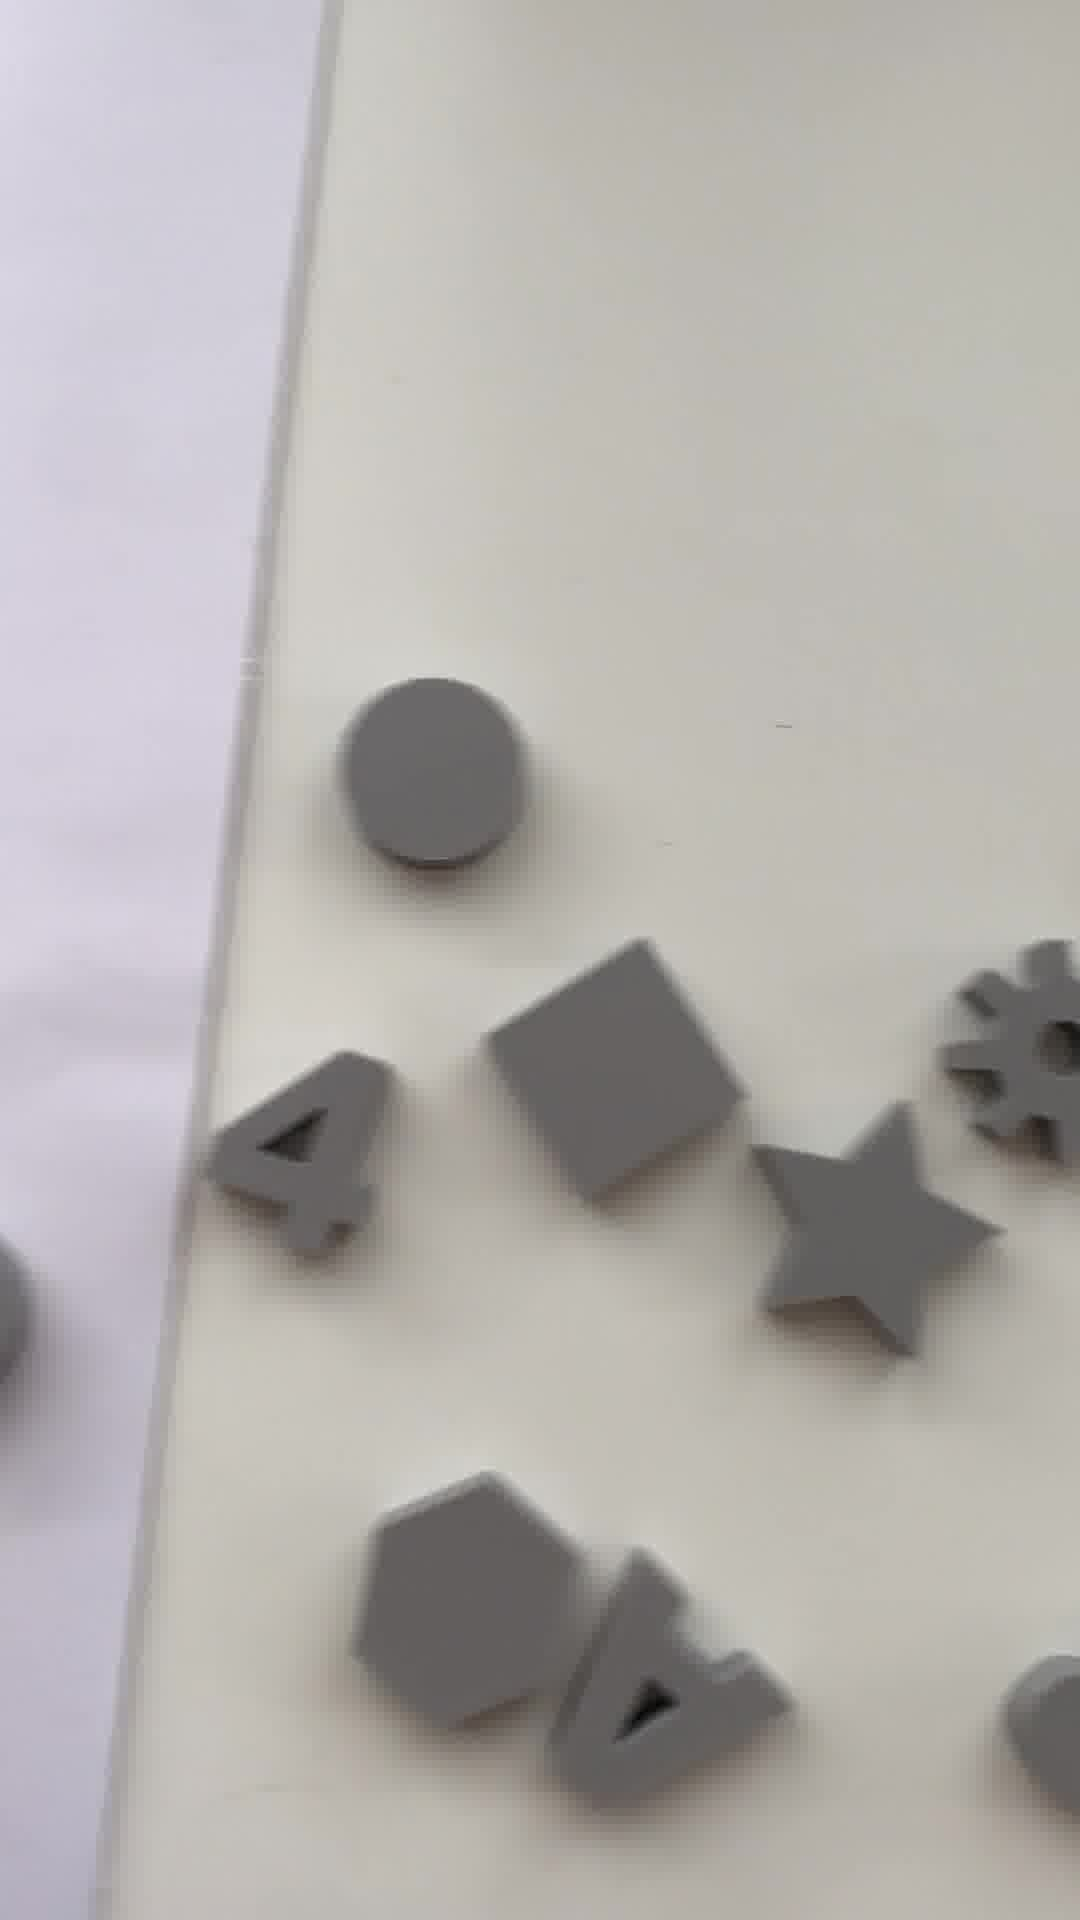Gray A-letter: (524, 1557, 802, 1818)
Gray circle: (331, 675, 547, 877)
Gray four: (196, 1042, 425, 1269)
Gray gear: (943, 934, 1080, 1156)
Gray hexagon: (342, 1469, 603, 1750)
Gray square: (487, 934, 729, 1188)
Gray star: (737, 1098, 1002, 1371)
